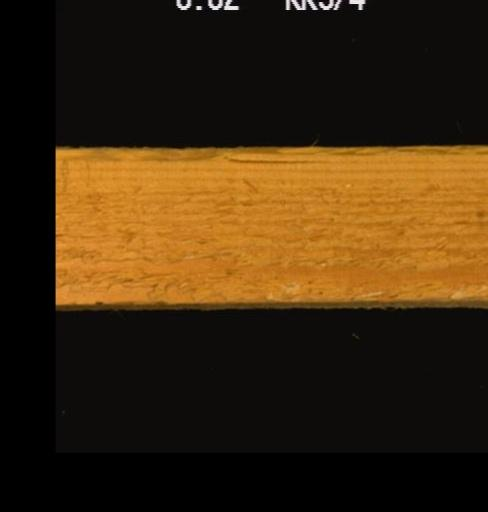wave: (55, 146, 343, 166)
